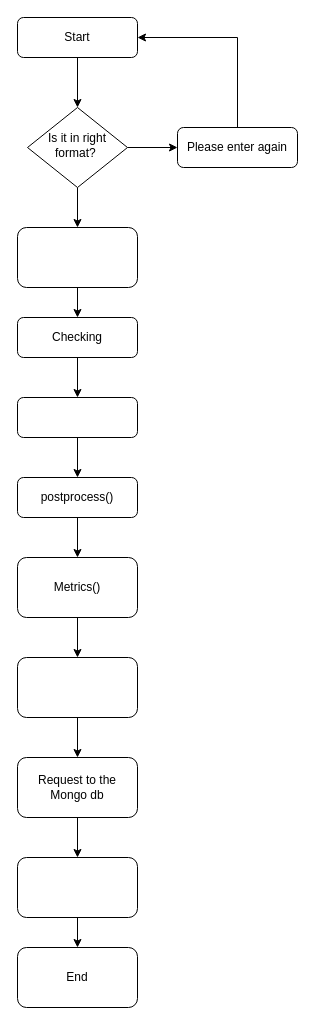
The diagram is 315 pixels wide and 1025 high, and some of its shapes have lost their labels. The centre of each missing label's shape, as x and y in pixels:
"Data visualization" goes at point 77,887.
"main.py" goes at point 77,257.
"scraper()" goes at point 77,417.
"Update to Mongo db server" goes at point 77,687.
